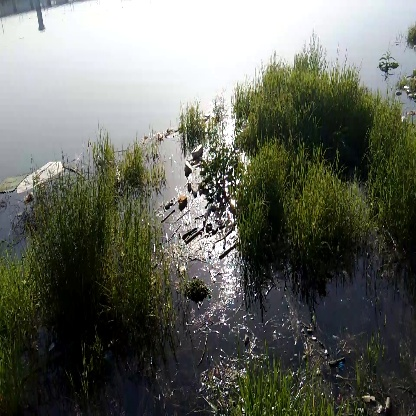plastic-bag: (15, 157, 67, 189)
